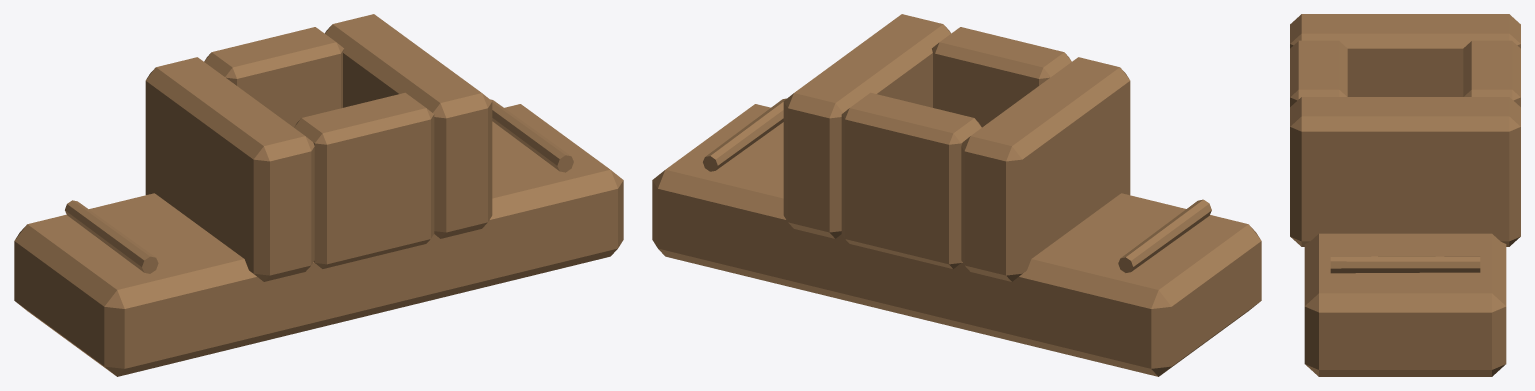
3 renders of one model, left to right at view 1: azimuth 30°, elevation 25°; view 2: azimuth 150°, elevation 25°; view 3: azimuth 270°, elevation 25°, orthographic. The views are drawn at different scales.
Parts seen in each view (by area): view 1: CE-045 Socketed timber mast step batched; view 2: CE-045 Socketed timber mast step batched; view 3: CE-045 Socketed timber mast step batched.
Boxes of the visible parts, left/top/right/bottom form: CE-045 Socketed timber mast step batched: left=14, top=14, right=623, bottom=376; CE-045 Socketed timber mast step batched: left=652, top=14, right=1261, bottom=376; CE-045 Socketed timber mast step batched: left=1290, top=14, right=1520, bottom=376.
Bounding box in the file's own units: 1 × 0.375 × 0.4.
